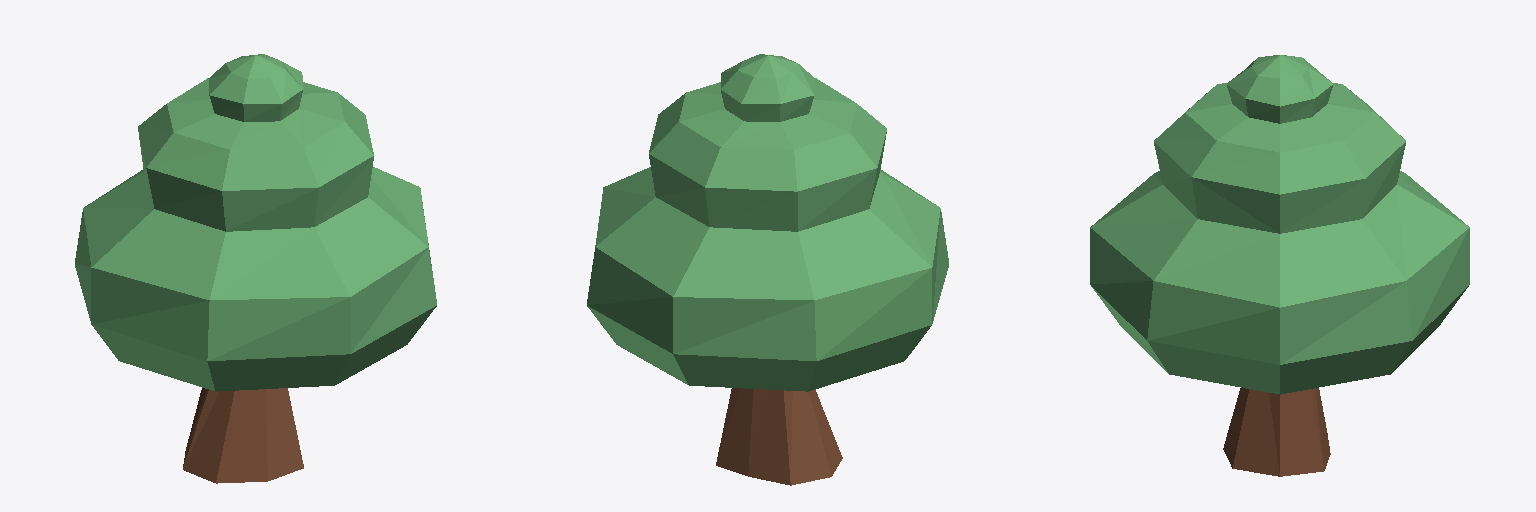
3 renders of one model, left to right at view 1: azimuth 30°, elevation 25°; view 2: azimuth 150°, elevation 25°; view 3: azimuth 270°, elevation 25°, orthographic.
Parts seen in each view (by area): view 1: Geode.Geode.000_Geode.008; view 2: Geode.Geode.000_Geode.008; view 3: Geode.Geode.000_Geode.008.
Boxes of the visible parts, x1=… form: Geode.Geode.000_Geode.008: x1=75, y1=54, x2=436, y2=483; Geode.Geode.000_Geode.008: x1=587, y1=54, x2=948, y2=485; Geode.Geode.000_Geode.008: x1=1090, y1=55, x2=1469, y2=476.
Bounding box in the file's own units: 0.0372 × 0.0434 × 0.0372.
1 materials, 1 textured.